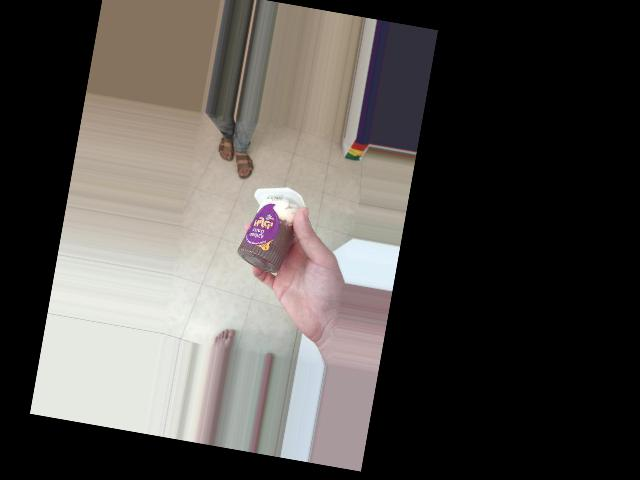milky: (243, 188, 311, 274)
